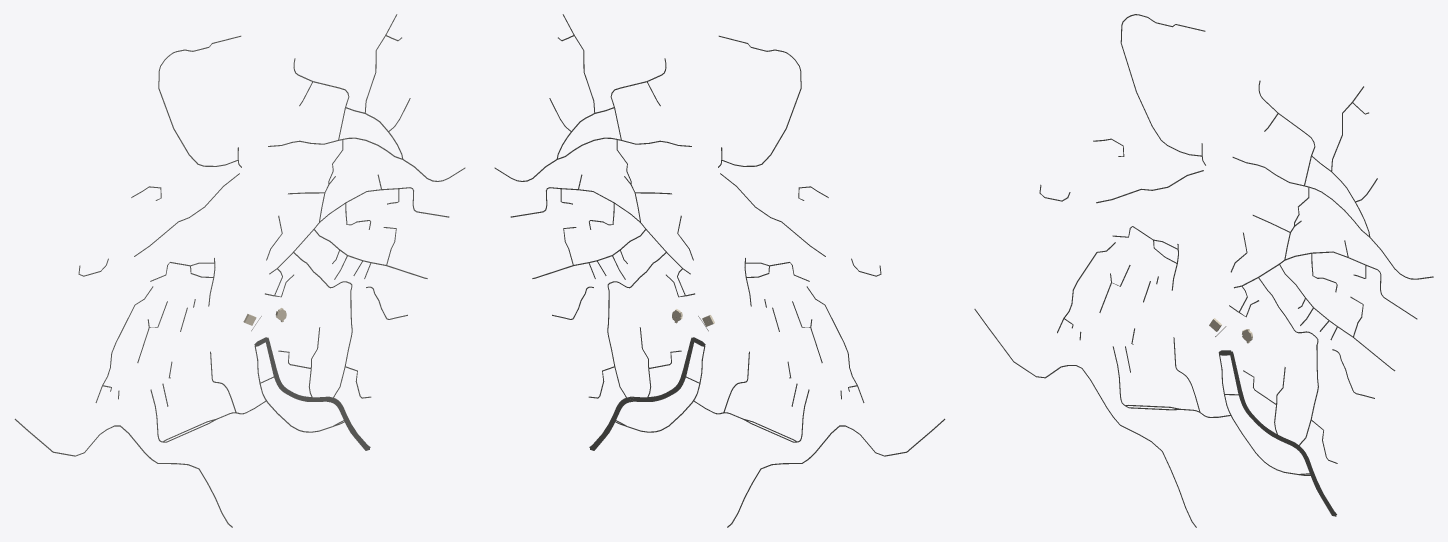
File: historic-palestine-09_21_3509_3158.glb
3 renders of one model, left to right at view 1: azimuth 30°, elevation 25°; view 2: azimuth 150°, elevation 25°; view 3: azimuth 330°, elevation 25°, orthographic.
Parts seen in each view (by area): view 1: Road Surif - Hebron.001, Road Surif - Hebron; view 2: Road Surif - Hebron; view 3: Road Surif - Hebron, Road Surif - Hebron.001, Road .045.
Boxes of the visible parts, <box> form: Road Surif - Hebron.001: <box>265,338,369,450</box>; Road Surif - Hebron: <box>266,337,370,448</box>; Road Surif - Hebron: <box>589,337,693,449</box>; Road Surif - Hebron: <box>1230,351,1336,515</box>; Road Surif - Hebron.001: <box>1230,351,1336,516</box>; Road .045: <box>974,309,1196,527</box>.
Bounding box in the file's own units: 1374 × 1427 × 8.7.
